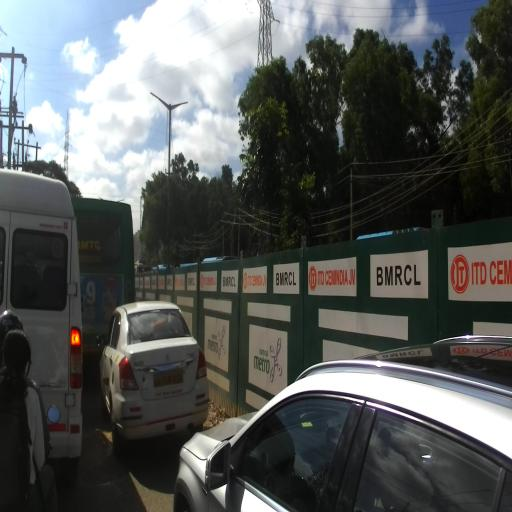street_light_0: (150, 91, 172, 114), (170, 101, 188, 113), (117, 199, 124, 203), (98, 196, 103, 200)
